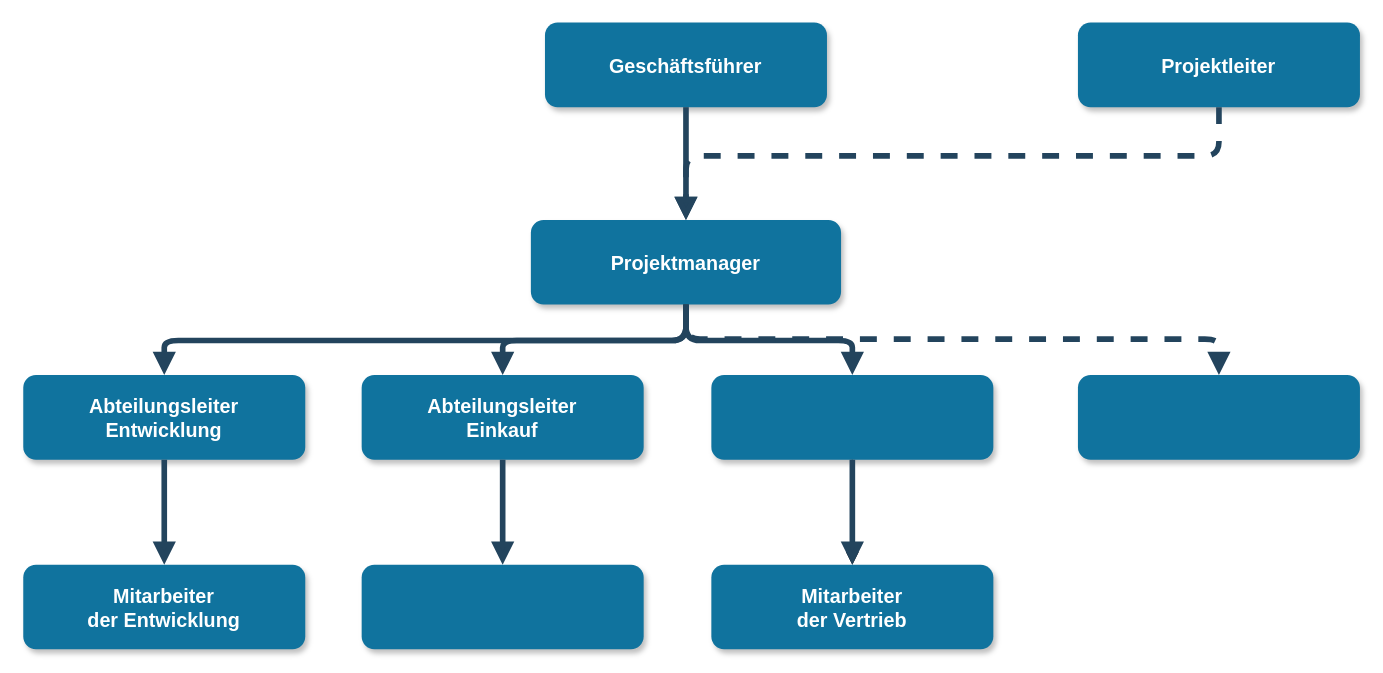
This 1383x673 diagram has some shape labels left out. The shapes that lost their labels are listed below. From the top down, each one's centre as x and y in pixels, then its label:
[853,419]: Abteilungsleiter Vertrieb
[1220,419]: Externe Dienstleister
[503,608]: Mitarbeiter der Einkauf
